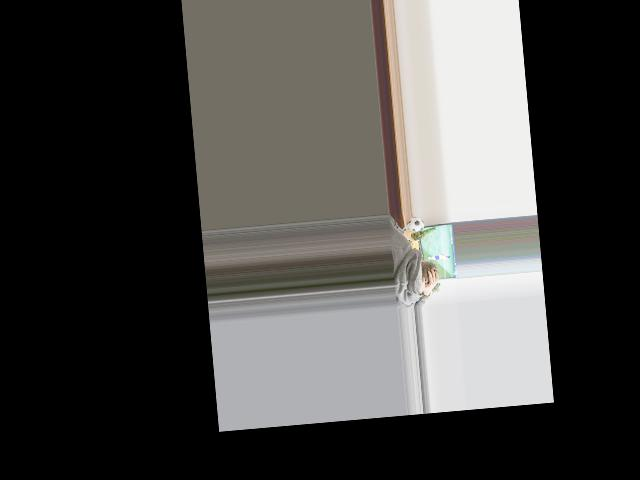beer: (406, 226, 436, 241)
